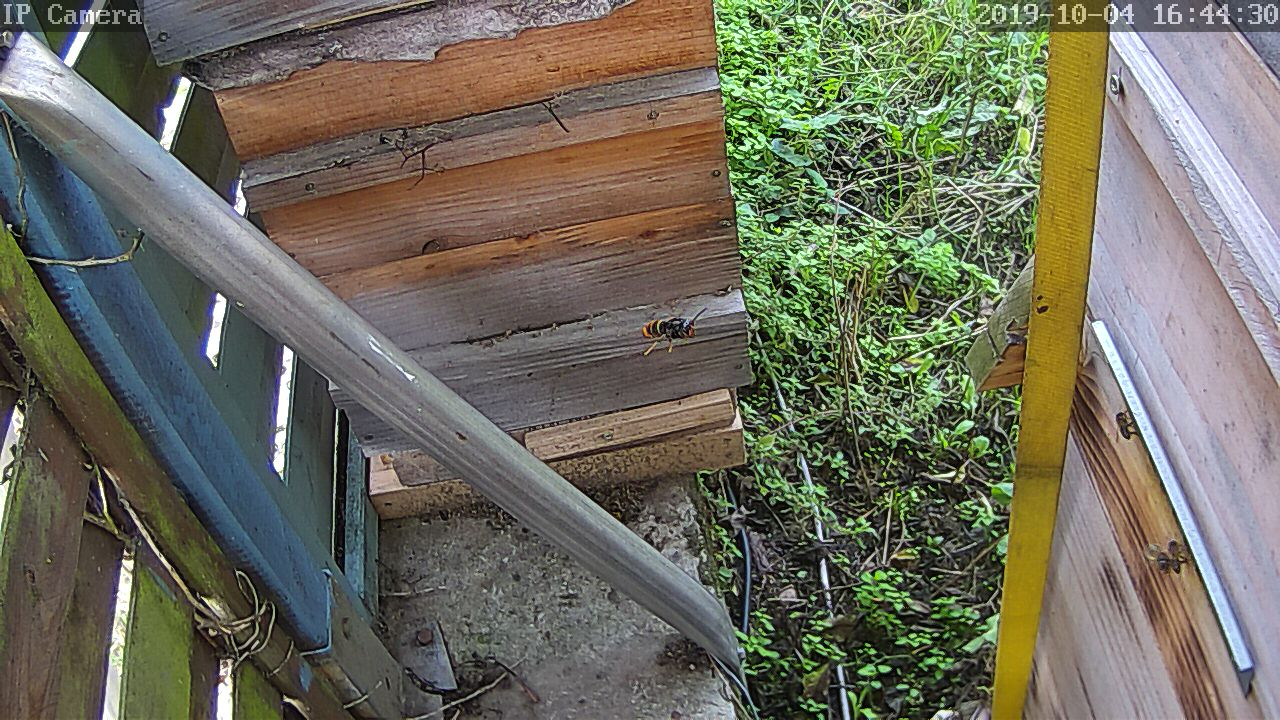bee: (1142, 539, 1200, 579), (1110, 406, 1142, 446)
hornet: (635, 306, 712, 352)
